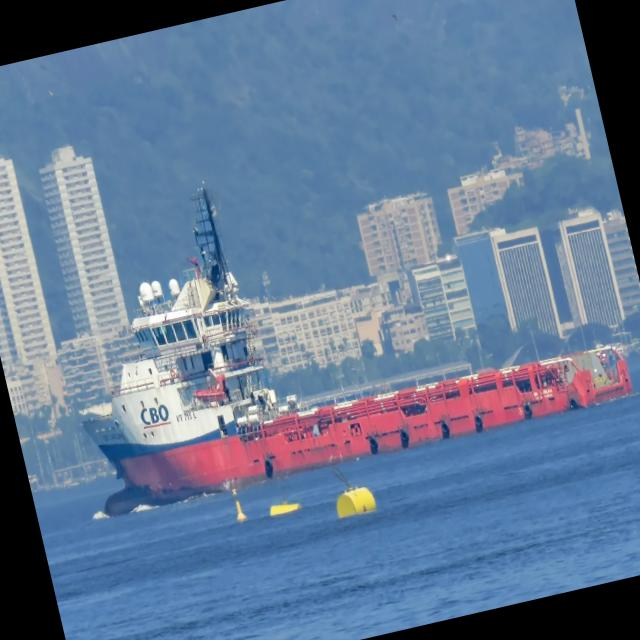Offshore: (82, 189, 631, 514)
